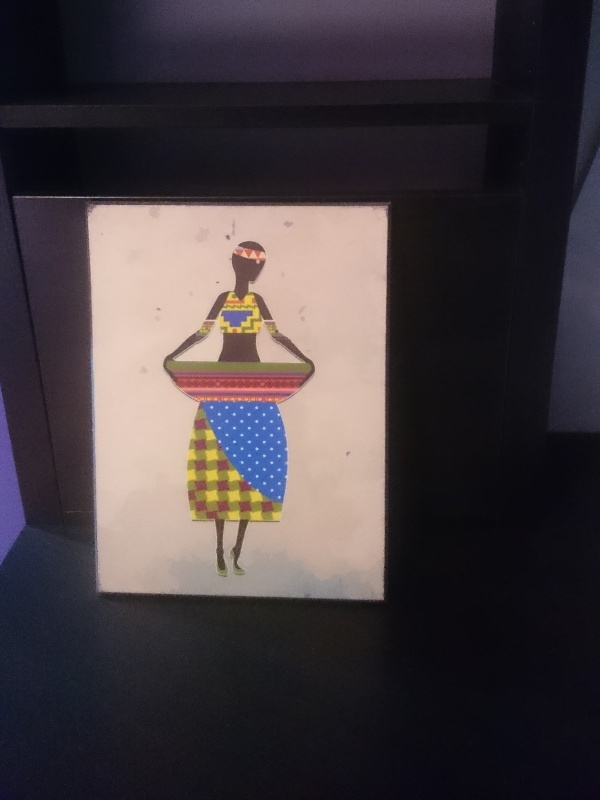my image: (94, 206, 387, 596)
